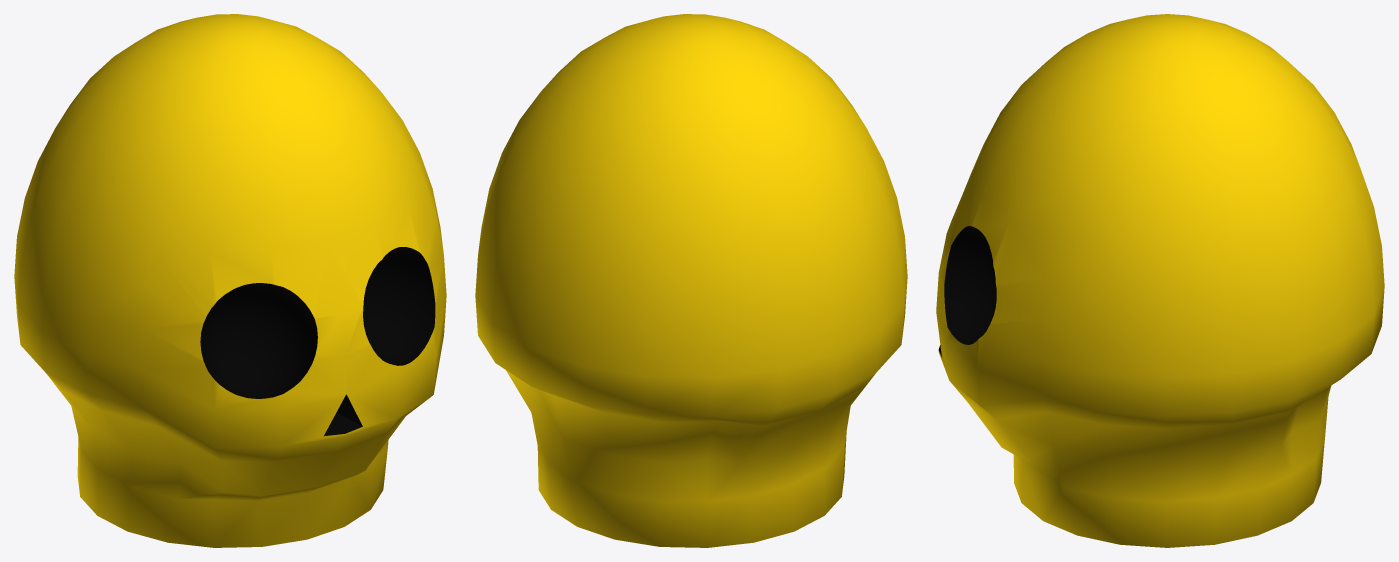
File: Vanity.fbx
3 renders of one model, left to right at view 1: azimuth 30°, elevation 25°; view 2: azimuth 150°, elevation 25°; view 3: azimuth 270°, elevation 25°, orthographic.
Parts seen in each view (by area): view 1: pSphere5; view 2: pSphere5; view 3: pSphere5.
Part boxes in pixels (x1,y1,x2,y2): pSphere5: (14,14,446,547); pSphere5: (475,14,907,547); pSphere5: (936,14,1384,547).
Bounding box in the file's own units: 1.55 × 1.8 × 1.6.
